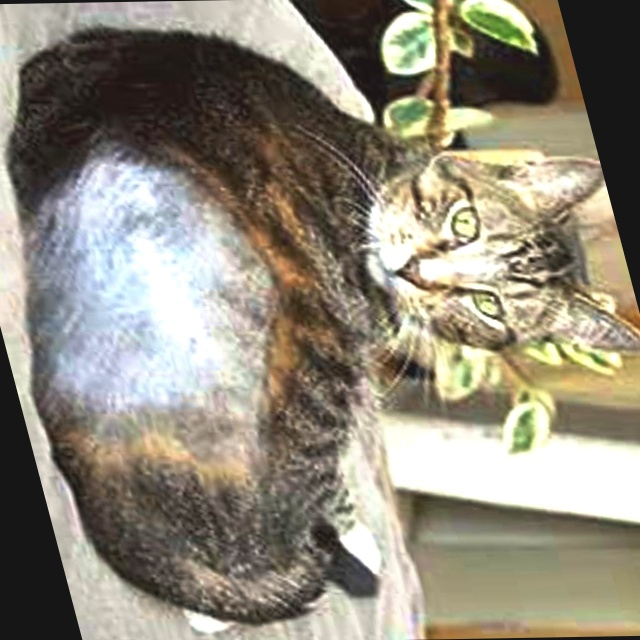hairloss: (2, 160, 307, 471)
